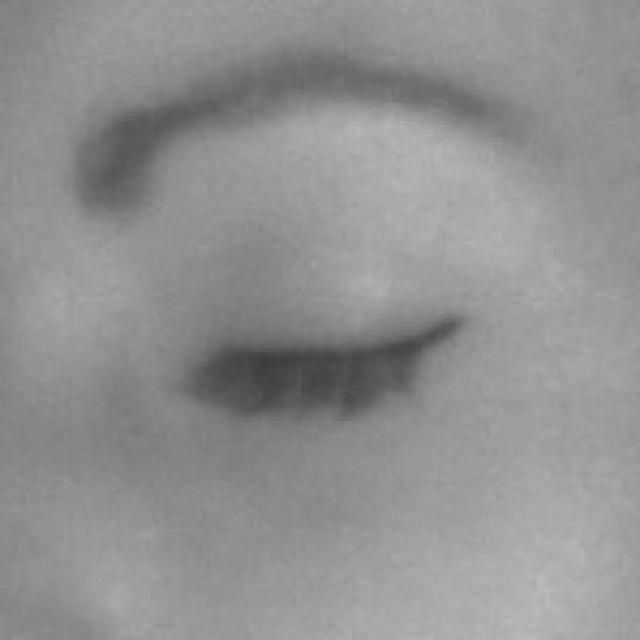drowsy: (205, 238, 461, 497)
